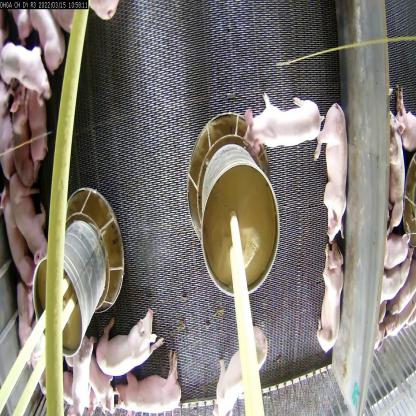Pig: (92, 305, 164, 375), (316, 95, 349, 247), (215, 320, 267, 416), (245, 89, 319, 149), (112, 354, 186, 413), (8, 168, 50, 267), (1, 177, 33, 297), (382, 103, 410, 237), (0, 36, 51, 100), (317, 235, 343, 353), (8, 85, 34, 187), (30, 8, 64, 76), (27, 85, 52, 171), (37, 353, 76, 408), (69, 337, 96, 415), (379, 247, 413, 306), (17, 281, 38, 362), (382, 227, 414, 277)
